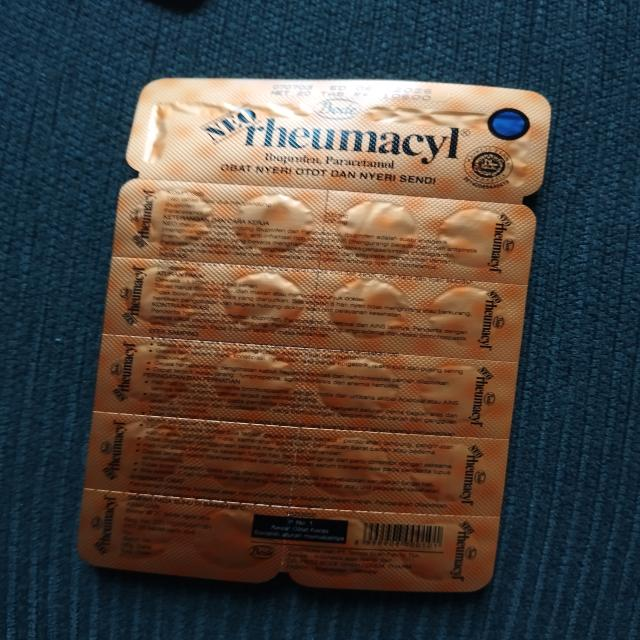B3: (75, 76, 551, 591)
